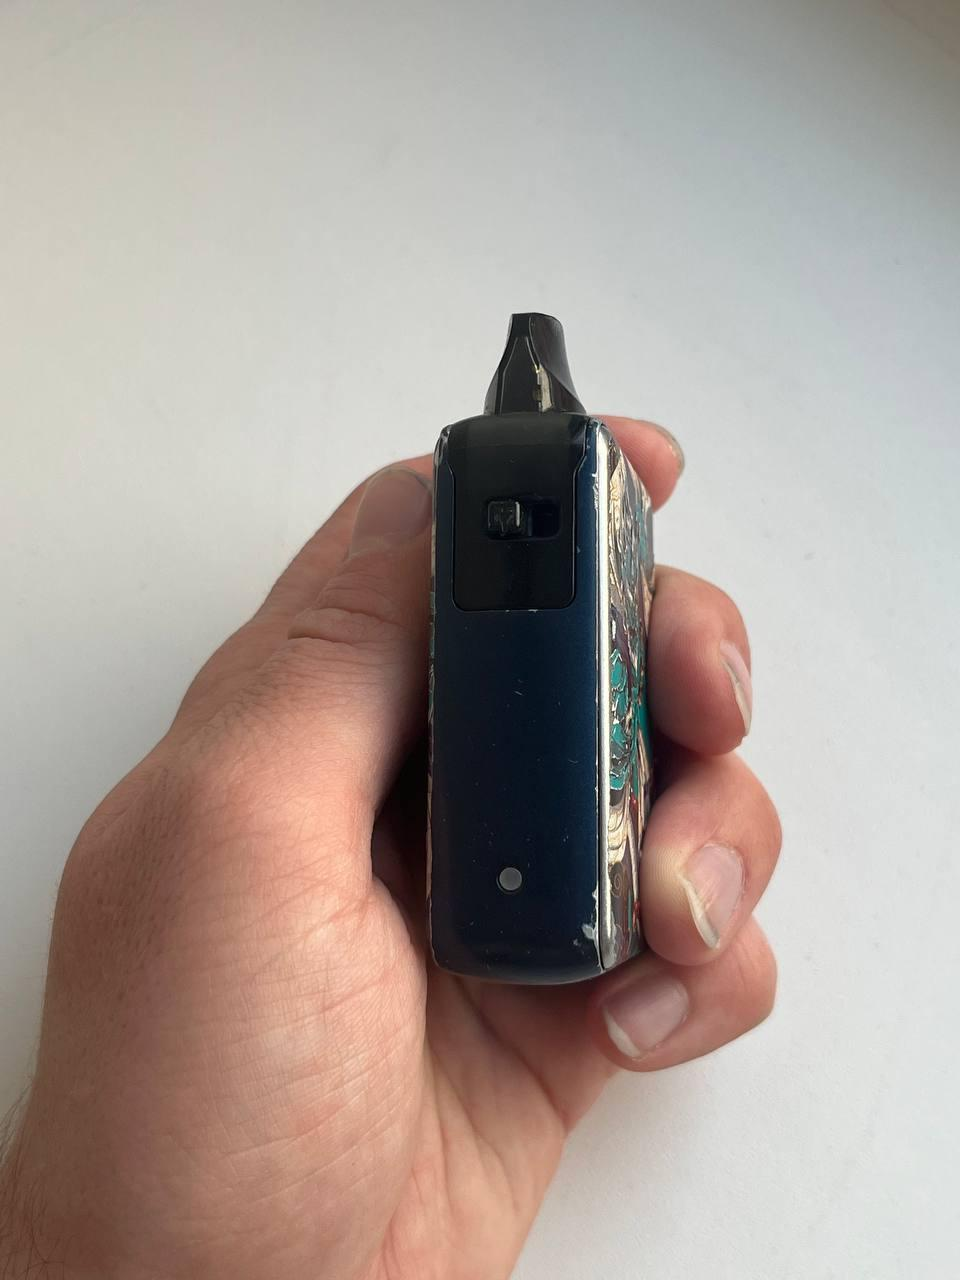Vape: (429, 314, 653, 985)
